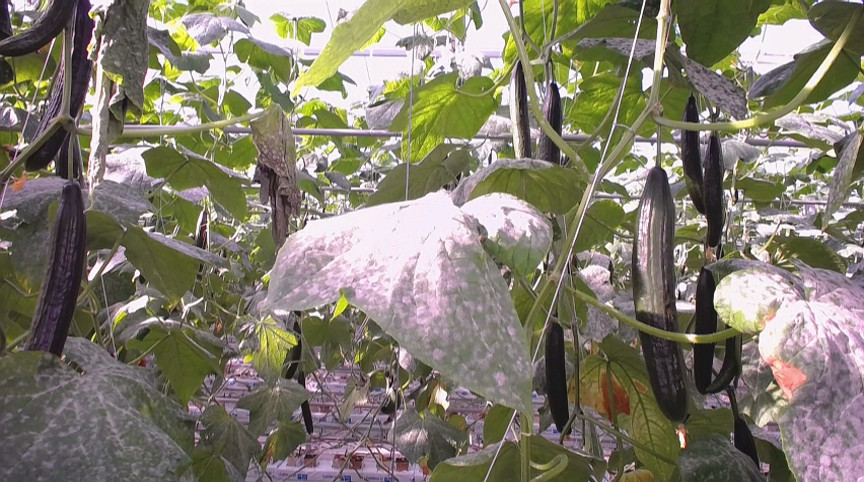cucumber: (632, 166, 688, 423), (29, 185, 85, 351), (1, 1, 82, 56), (680, 100, 708, 214), (546, 321, 572, 433), (694, 269, 717, 390), (708, 137, 727, 247), (510, 62, 531, 159)
